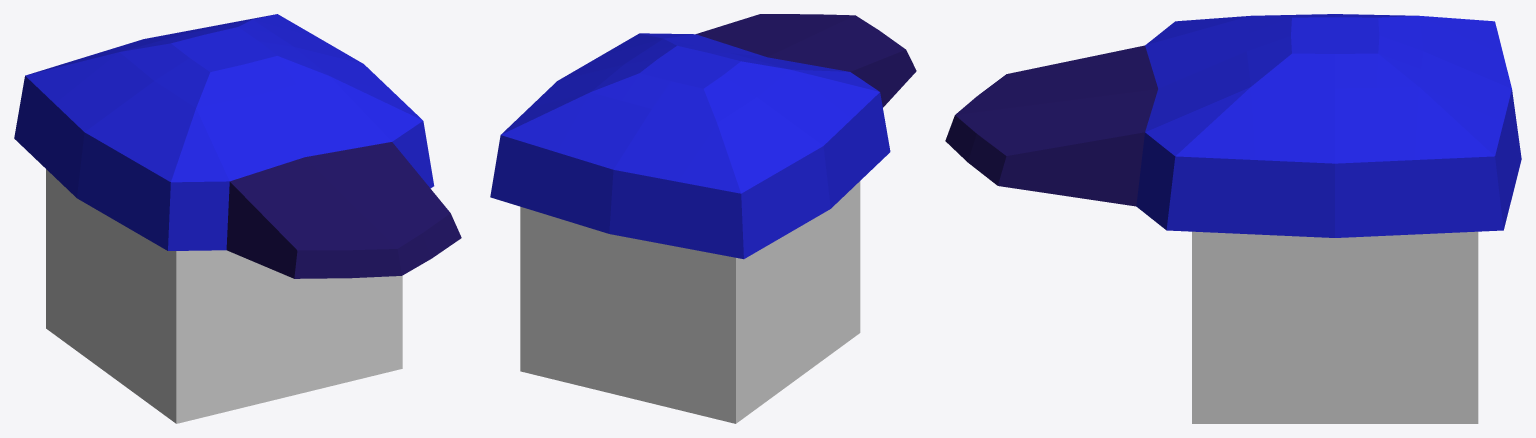
The model's file is cubeguymaze.fbx.
3 views of the same model, side by side, from view 1: azimuth 30°, elevation 25°; view 2: azimuth 150°, elevation 25°; view 3: azimuth 270°, elevation 25° (orthographic). The views are drawn at different scales.
Visible parts, largest first — view 1: hat, CubeGuy; view 2: hat, CubeGuy; view 3: hat, CubeGuy.
Part boxes in pixels (x1,y1,x2,y2): hat: (14, 14, 461, 278); CubeGuy: (46, 169, 402, 423); hat: (490, 14, 916, 259); CubeGuy: (520, 181, 860, 423); hat: (945, 14, 1521, 237); CubeGuy: (1192, 231, 1478, 423).
Bounding box in the file's own units: 403 × 253 × 261.
